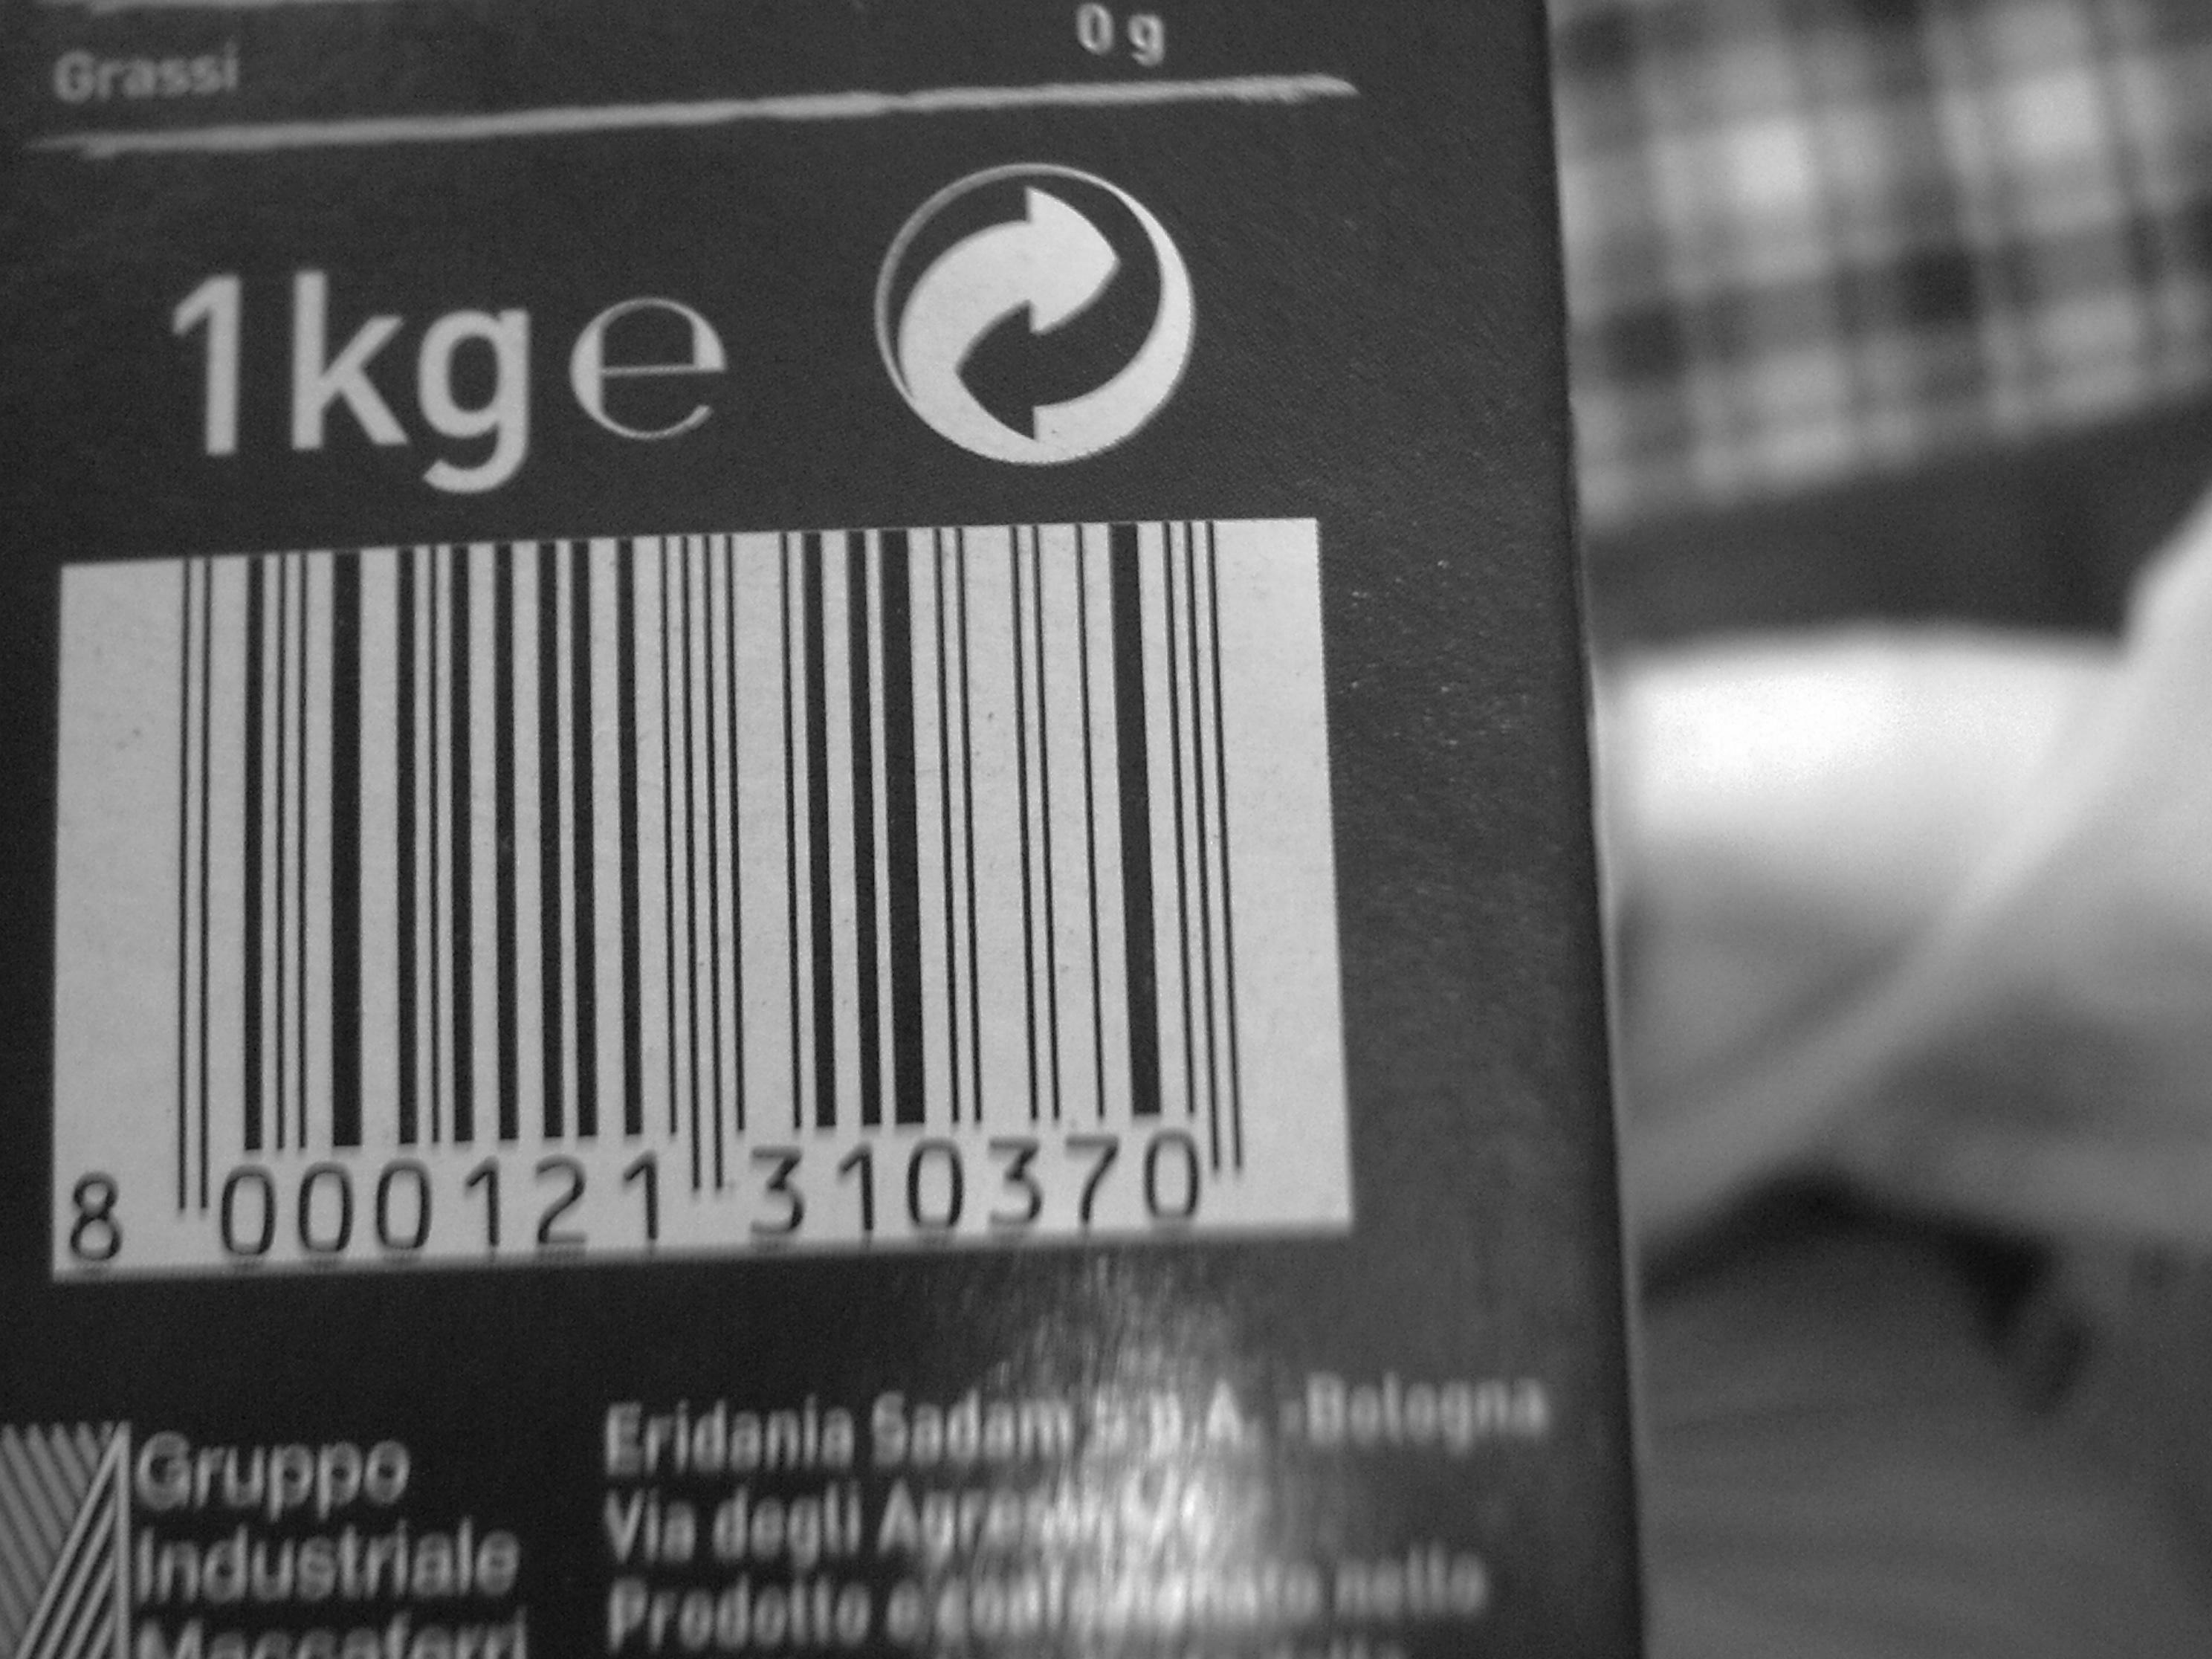Barcode: (66, 535, 1388, 1246)
